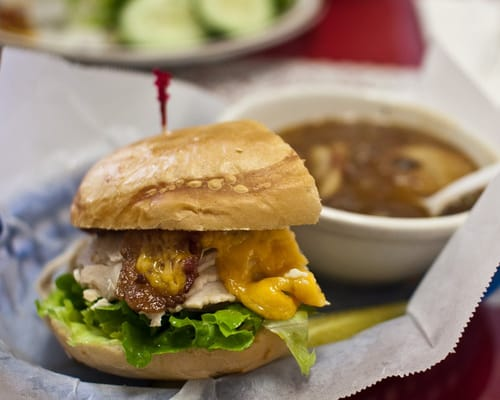soup: (34, 118, 343, 386)
sushi: (197, 82, 500, 291), (0, 0, 334, 72)
